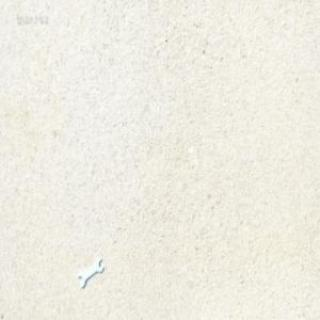Wrenchtrack_idkeyframe: (78, 257, 104, 287)
